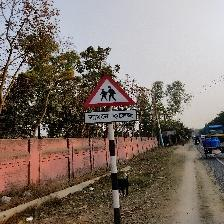College-in-front: (76, 66, 151, 146)
